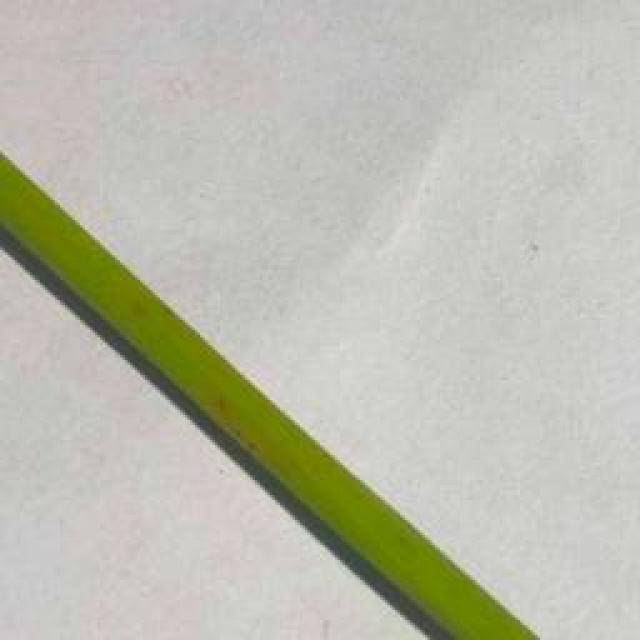Brown_Spot: (219, 387, 246, 436), (129, 299, 150, 325), (160, 303, 177, 323)
